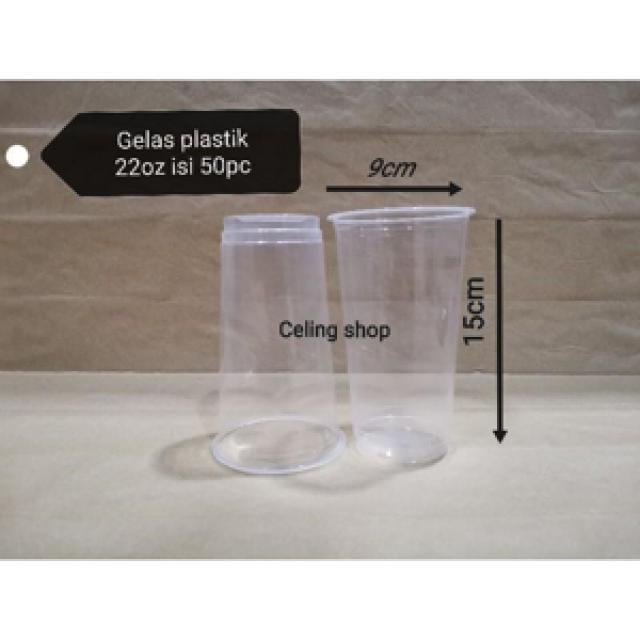plastic cup: (320, 201, 484, 482), (201, 209, 354, 486)
